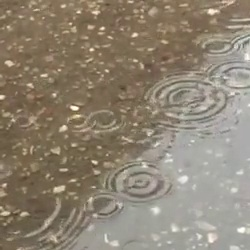drop: (147, 71, 230, 126), (1, 196, 79, 247), (108, 161, 173, 203), (208, 62, 250, 91), (83, 190, 123, 219), (90, 107, 124, 134), (200, 37, 241, 58), (60, 112, 96, 131), (233, 32, 250, 57), (13, 111, 34, 129)
